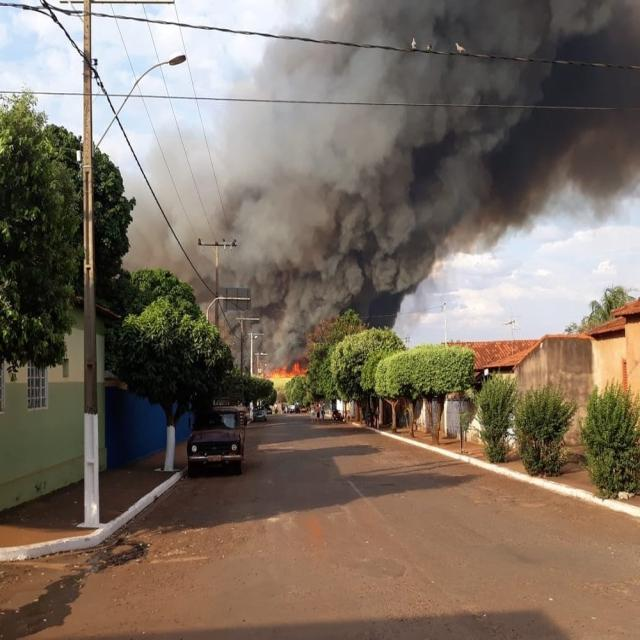Fire: (234, 360, 322, 398)
Smoke: (137, 7, 640, 345)
